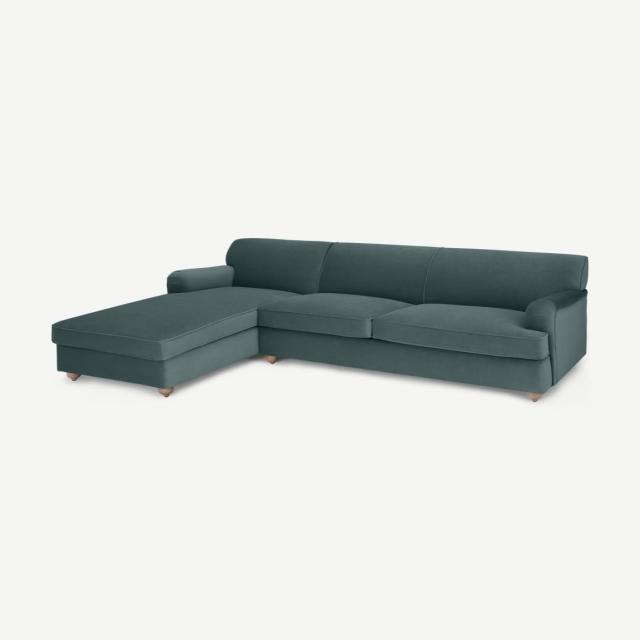Soffa: (51, 228, 605, 415)
